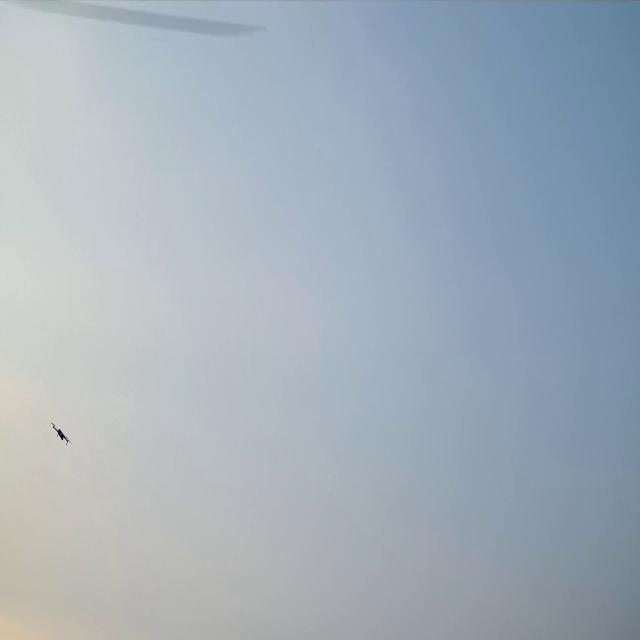UAV: (53, 424, 69, 443)
